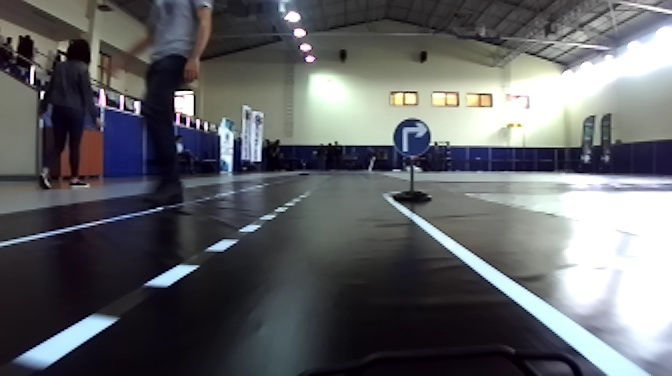saga_donus: (392, 118, 432, 159)
